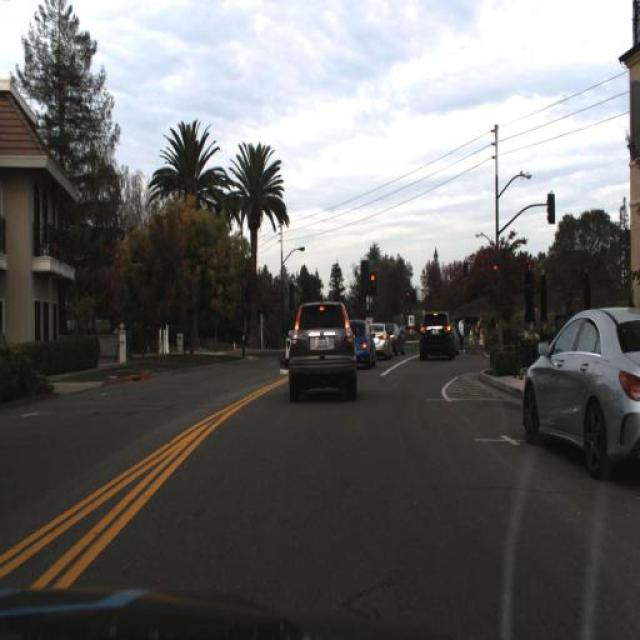car: (516, 305, 639, 466), (285, 299, 356, 391), (418, 310, 457, 360), (352, 316, 377, 365), (369, 318, 390, 352), (389, 318, 409, 352)
trafficLight: (456, 317, 466, 355), (476, 325, 486, 350), (476, 314, 485, 330), (468, 325, 473, 353)
trafficLight-RedLeft: (490, 258, 500, 293), (365, 270, 377, 294)
